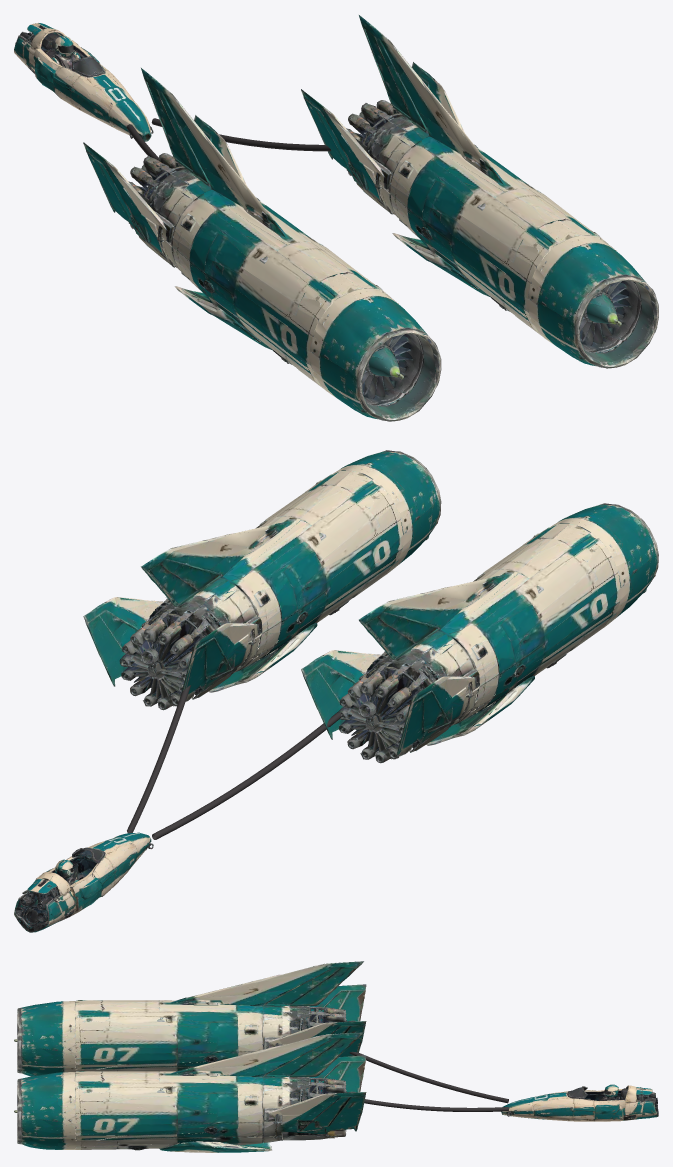
The model's file is kestrel-hero.glb.
The picture shows the model from 3 angles, top to bottom: view 1: azimuth 30°, elevation 25°; view 2: azimuth 150°, elevation 25°; view 3: azimuth 270°, elevation 25°; orthographic projection. The views are drawn at different scales.
Parts seen in each view (by area): view 1: kestrel-engine-left-body, kestrel-engine-right-body, kestrel-cockpit-body, kestrel-tow-cables; view 2: kestrel-engine-right-body, kestrel-engine-left-body, kestrel-cockpit-body, kestrel-tow-cables; view 3: kestrel-engine-right-body, kestrel-engine-left-body, kestrel-cockpit-body, kestrel-tow-cables.
Boxes of the visible parts, left/top/right/bottom form: kestrel-engine-left-body: left=83, top=68, right=441, bottom=421; kestrel-engine-right-body: left=301, top=15, right=658, bottom=368; kestrel-cockpit-body: left=14, top=23, right=153, bottom=141; kestrel-tow-cables: left=126, top=118, right=331, bottom=160; kestrel-engine-right-body: left=83, top=450, right=441, bottom=710; kestrel-engine-left-body: left=301, top=503, right=658, bottom=763; kestrel-cockpit-body: left=14, top=832, right=153, bottom=932; kestrel-tow-cables: left=127, top=685, right=346, bottom=839; kestrel-engine-right-body: left=14, top=1032, right=366, bottom=1152; kestrel-engine-left-body: left=14, top=961, right=366, bottom=1076; kestrel-cockpit-body: left=501, top=1084, right=658, bottom=1121; kestrel-tow-cables: left=349, top=1051, right=508, bottom=1111.
Bounding box in the file's own units: 12.31 × 6.56 × 31.12.
3 materials, 2 textured.
